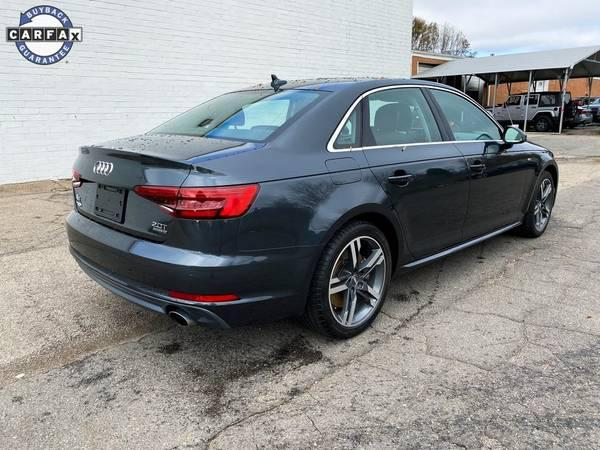Front_Fender: (512, 141, 557, 221)
Front_Right_Door: (451, 142, 524, 249)
Front_Right_Window: (424, 88, 510, 143)
Rear_Bumper: (64, 212, 319, 329)
Rear_Fender: (183, 97, 384, 252)
Rear_Right_Door: (363, 143, 467, 268)
Rear_Right_Window: (363, 86, 454, 148)
Rear_Windshield: (149, 90, 332, 144)
Right_Taillight: (133, 181, 261, 222)
Roof: (232, 74, 516, 152)
Tailgate: (70, 135, 263, 239)
Wheel: (311, 222, 391, 337), (528, 172, 558, 231)
